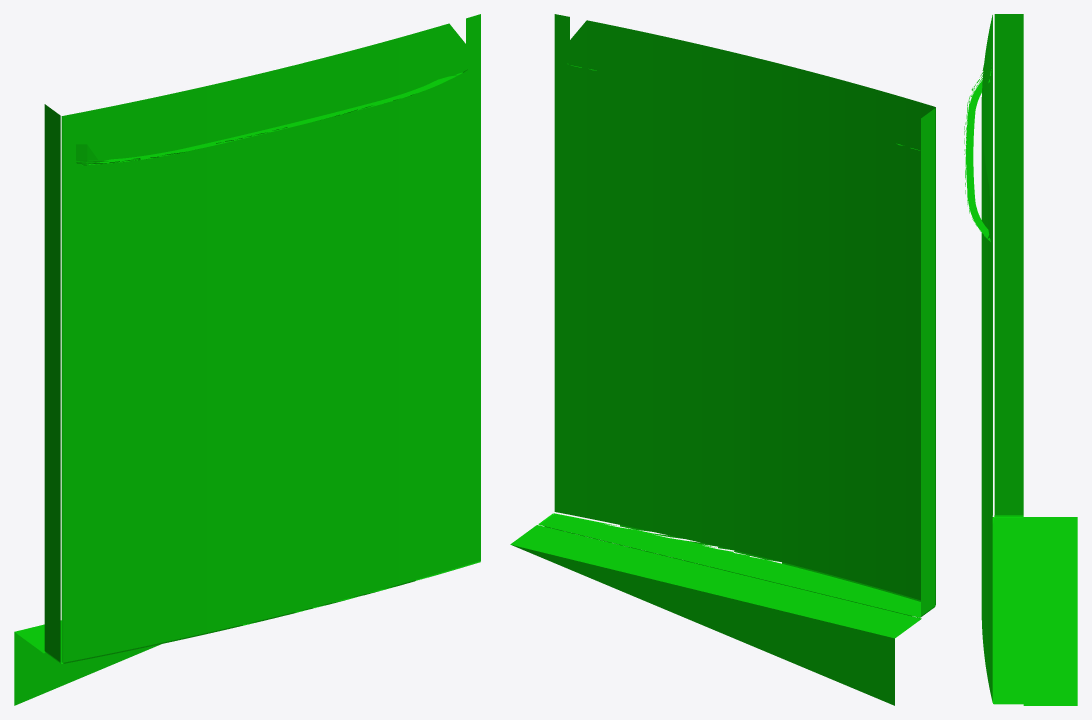
Rendered from pred_area.obj.
3 views of the same model, side by side, from view 1: azimuth 30°, elevation 25°; view 2: azimuth 150°, elevation 25°; view 3: azimuth 270°, elevation 25° (orthographic). The views are drawn at different scales.
Bounding box in the file's own units: 1.05 × 1.48 × 0.2656.
